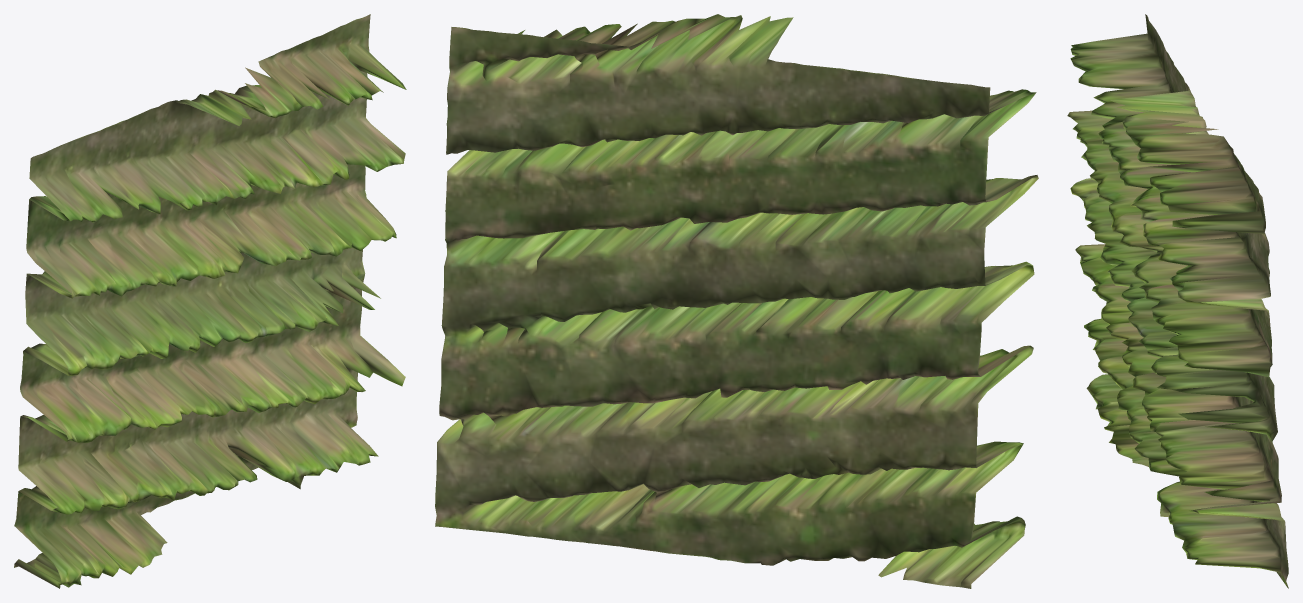
Rendered from map_150_0.obj.
3 views of the same model, side by side, from view 1: azimuth 30°, elevation 25°; view 2: azimuth 150°, elevation 25°; view 3: azimuth 270°, elevation 25° (orthographic). The views are drawn at different scales.
Size of the model in its own units: 10 by 10 by 5.12.
Materials: 1 (1 with a texture image).
